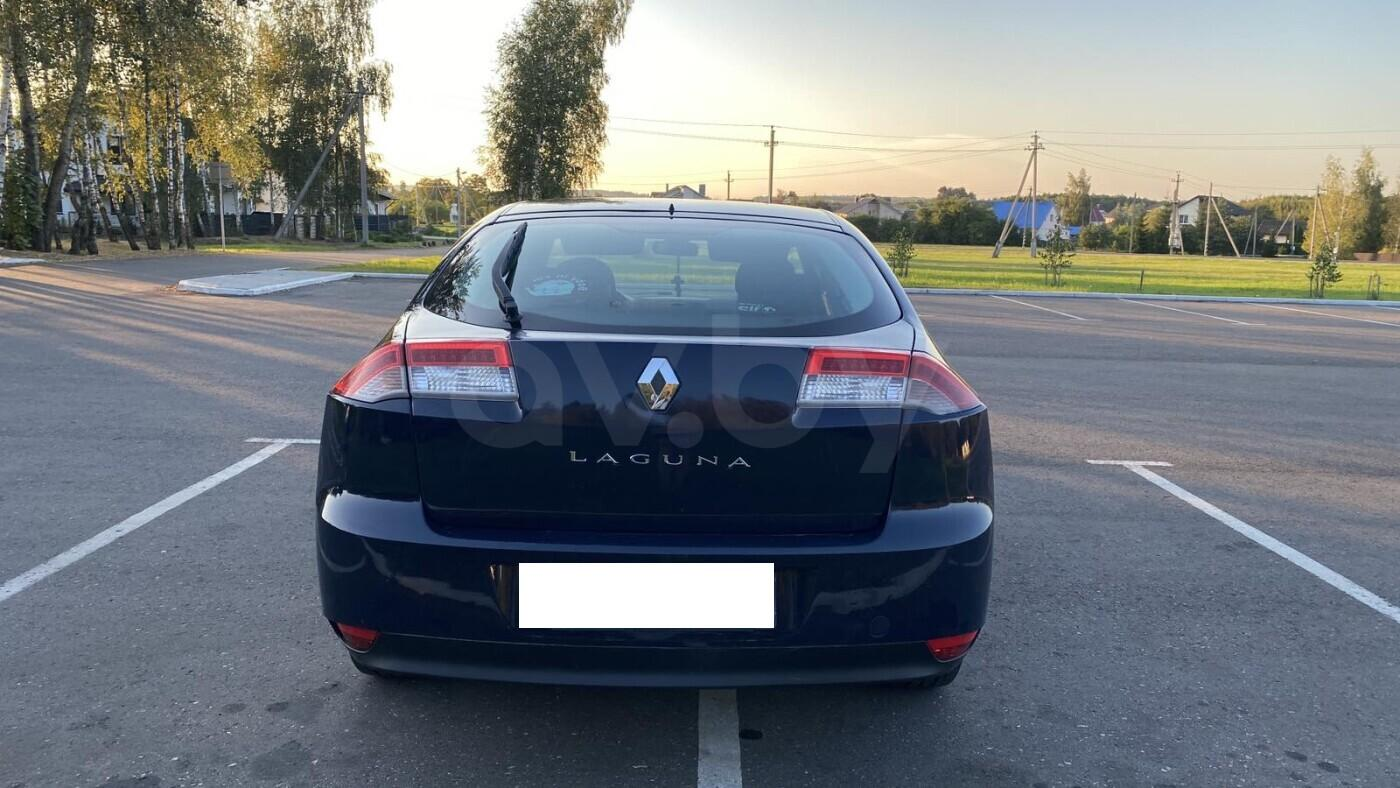Laguna_2007-2011: (313, 205, 994, 685)
